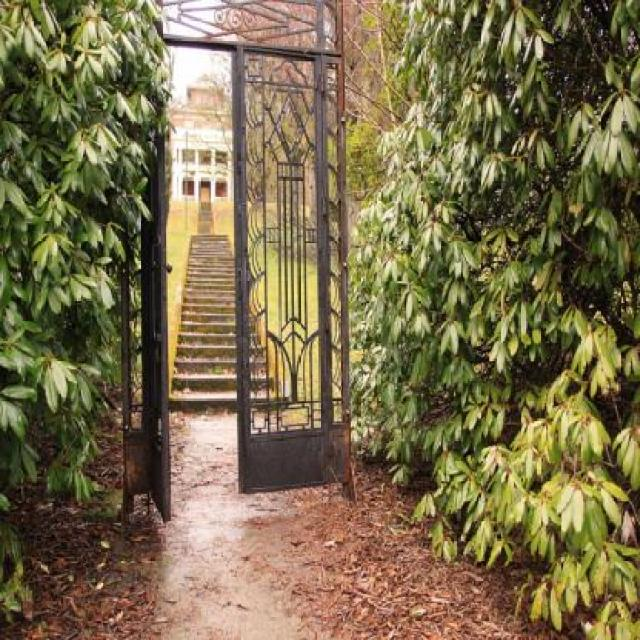stair: (166, 237, 282, 411), (197, 198, 215, 236)
